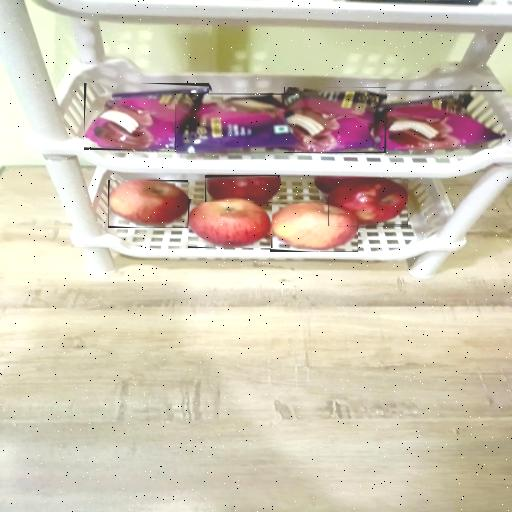Apple: (270, 204, 358, 252), (188, 199, 272, 248), (108, 180, 188, 228), (328, 180, 408, 228), (205, 175, 280, 202)
Choco Pie: (84, 83, 209, 150), (376, 90, 502, 149), (176, 95, 295, 152), (284, 87, 386, 153)
